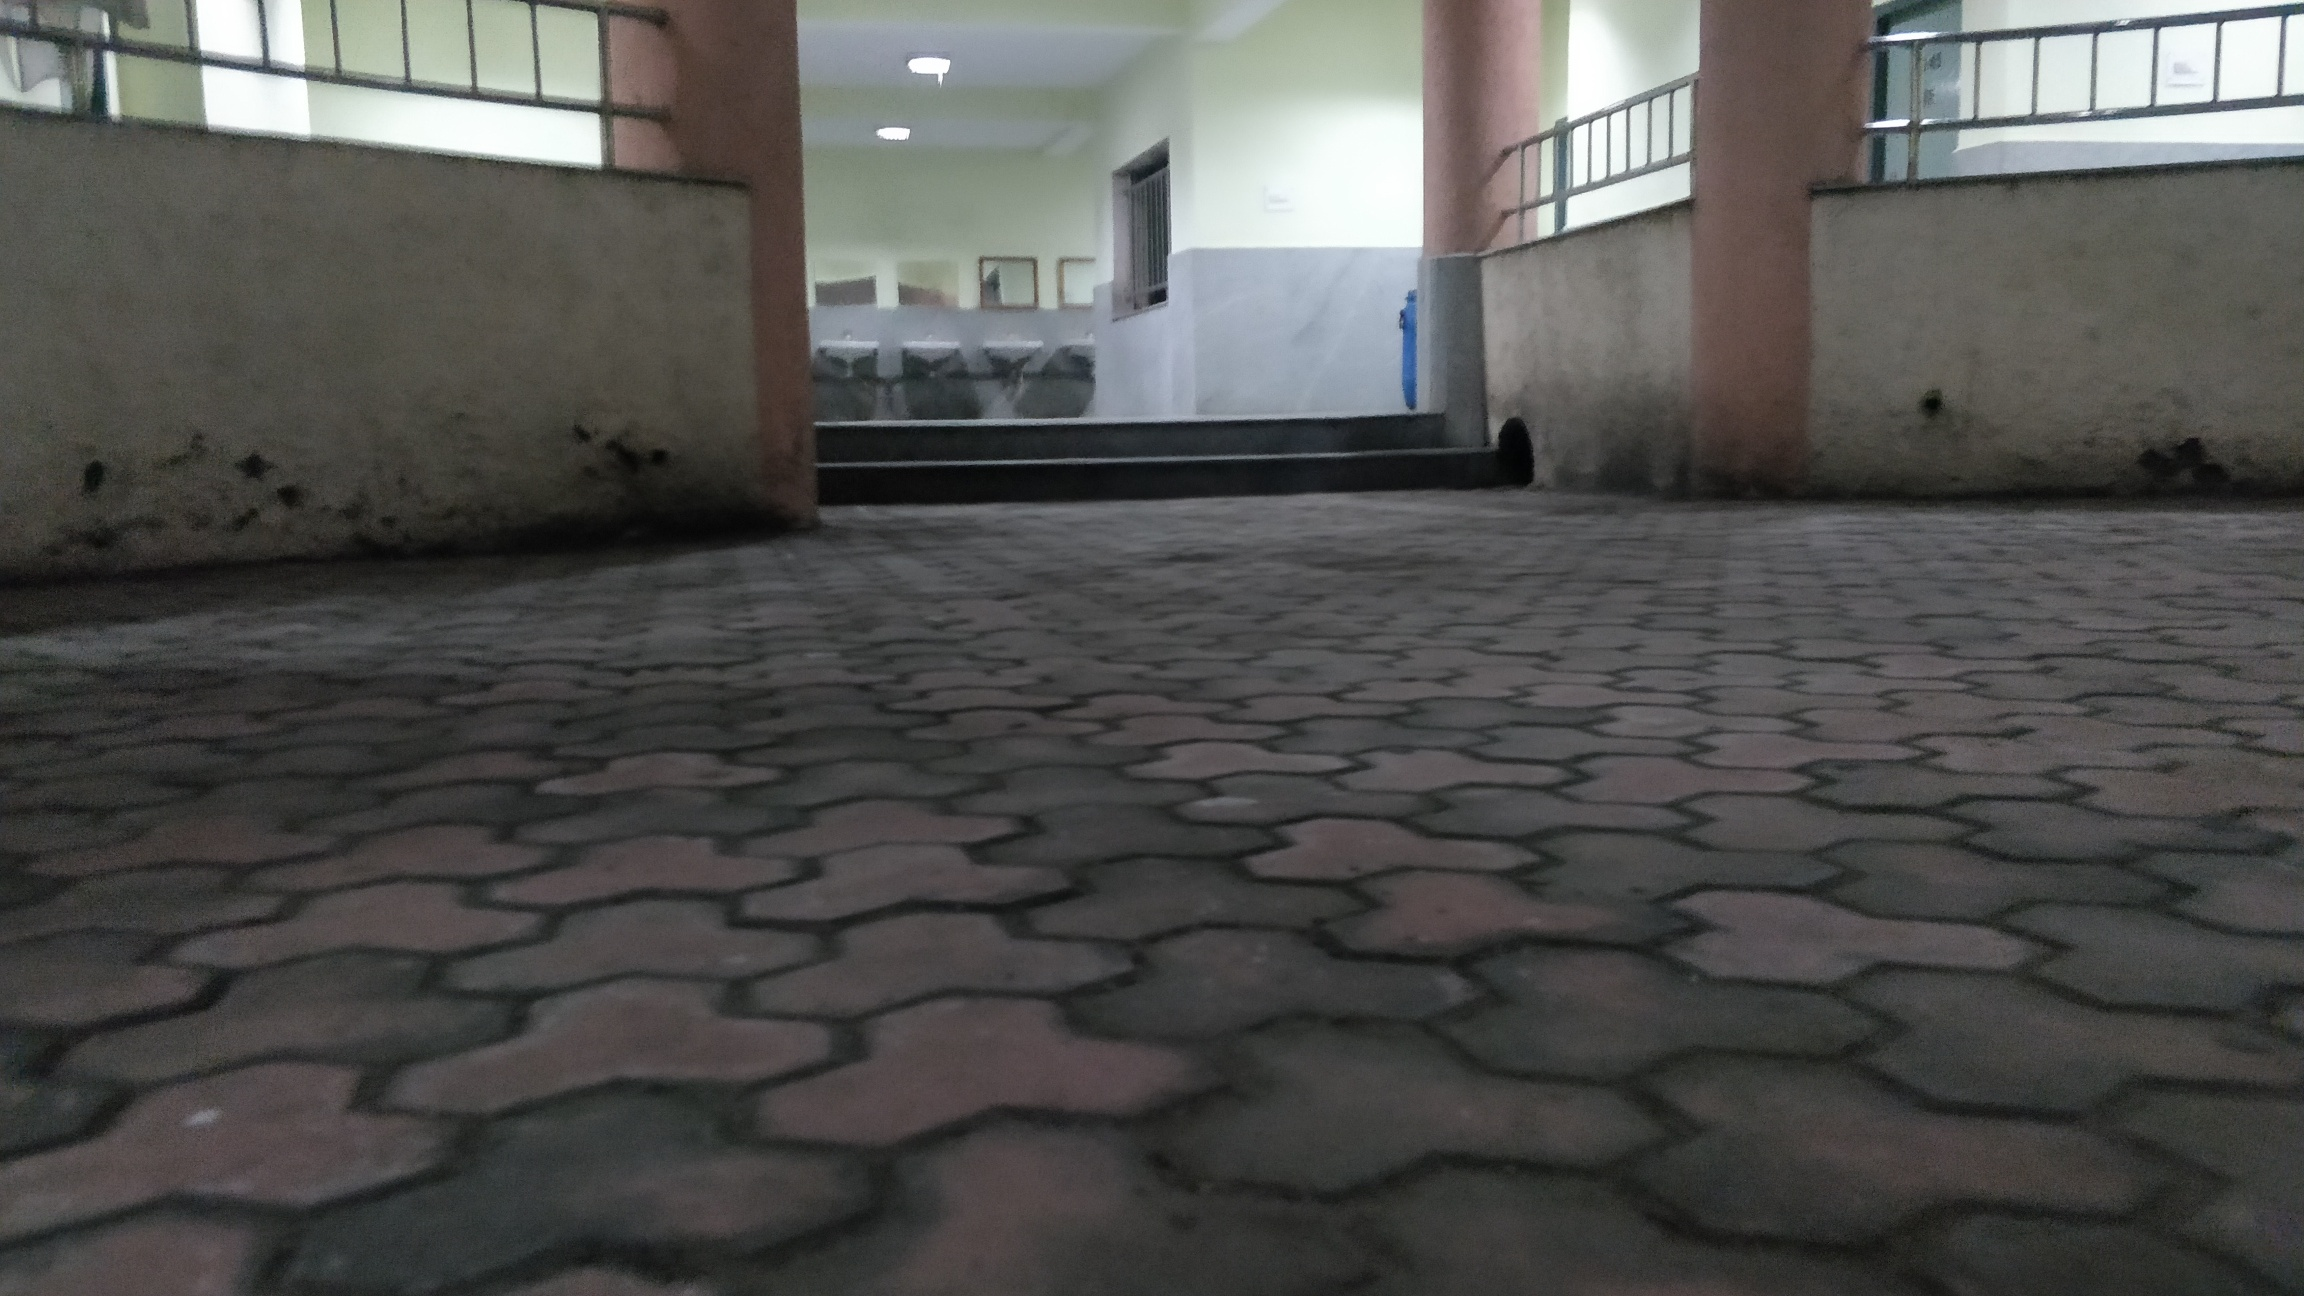stairs_up: (813, 407, 1494, 494)
